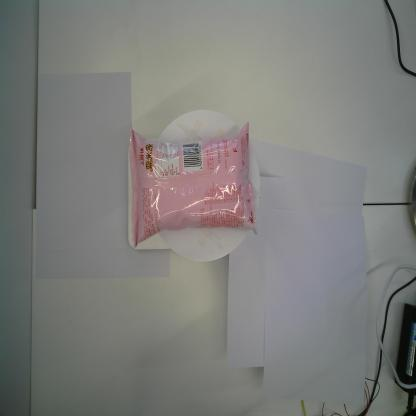Puffed Food: (130, 120, 258, 248)
